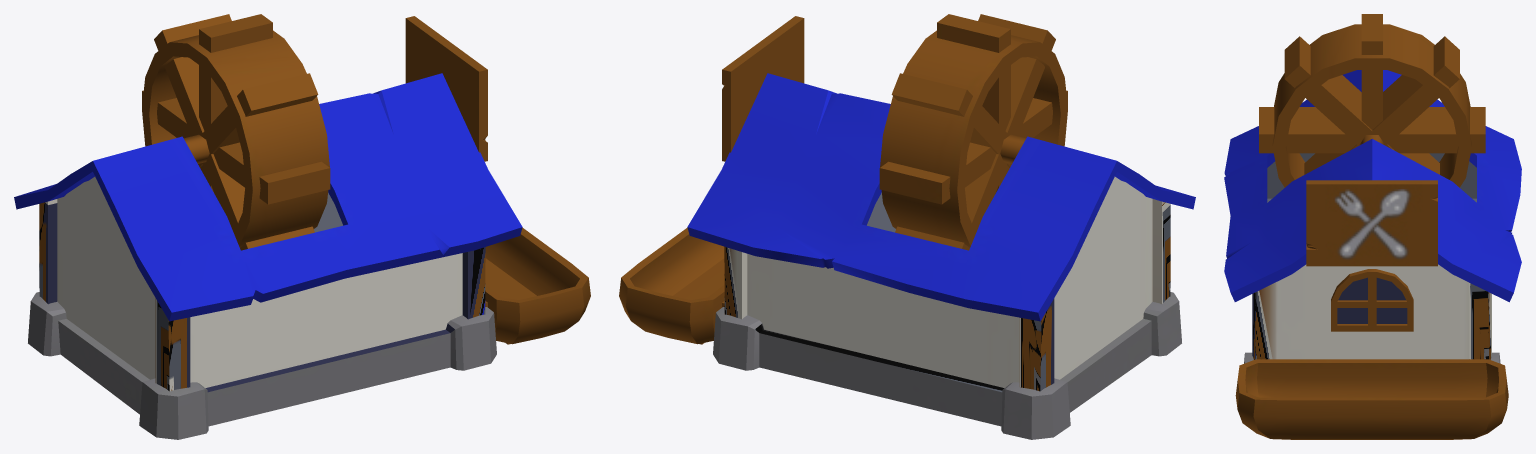
File: feedFactory.FBX
The picture shows the model from 3 angles, left to right: view 1: azimuth 30°, elevation 25°; view 2: azimuth 150°, elevation 25°; view 3: azimuth 270°, elevation 25°; orthographic projection. The views are drawn at different scales.
Parts seen in each view (by area): view 1: Box001; view 2: Box001; view 3: Box001.
Part boxes in pixels (x1,y1,x2,y2): Box001: (14,14,590,439); Box001: (619,14,1195,439); Box001: (1224,14,1521,439).
Bounding box in the file's own units: 216 × 143 × 156.
